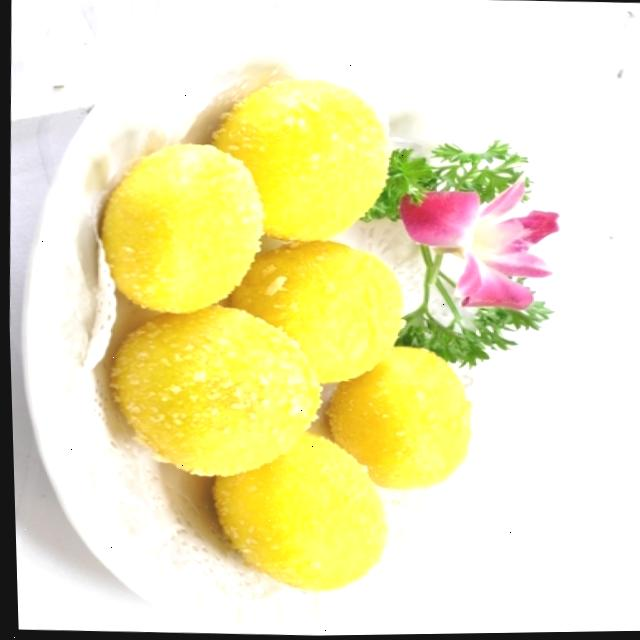炸货点心: (52, 42, 504, 615)
蛋糕甜品: (52, 42, 504, 615)
